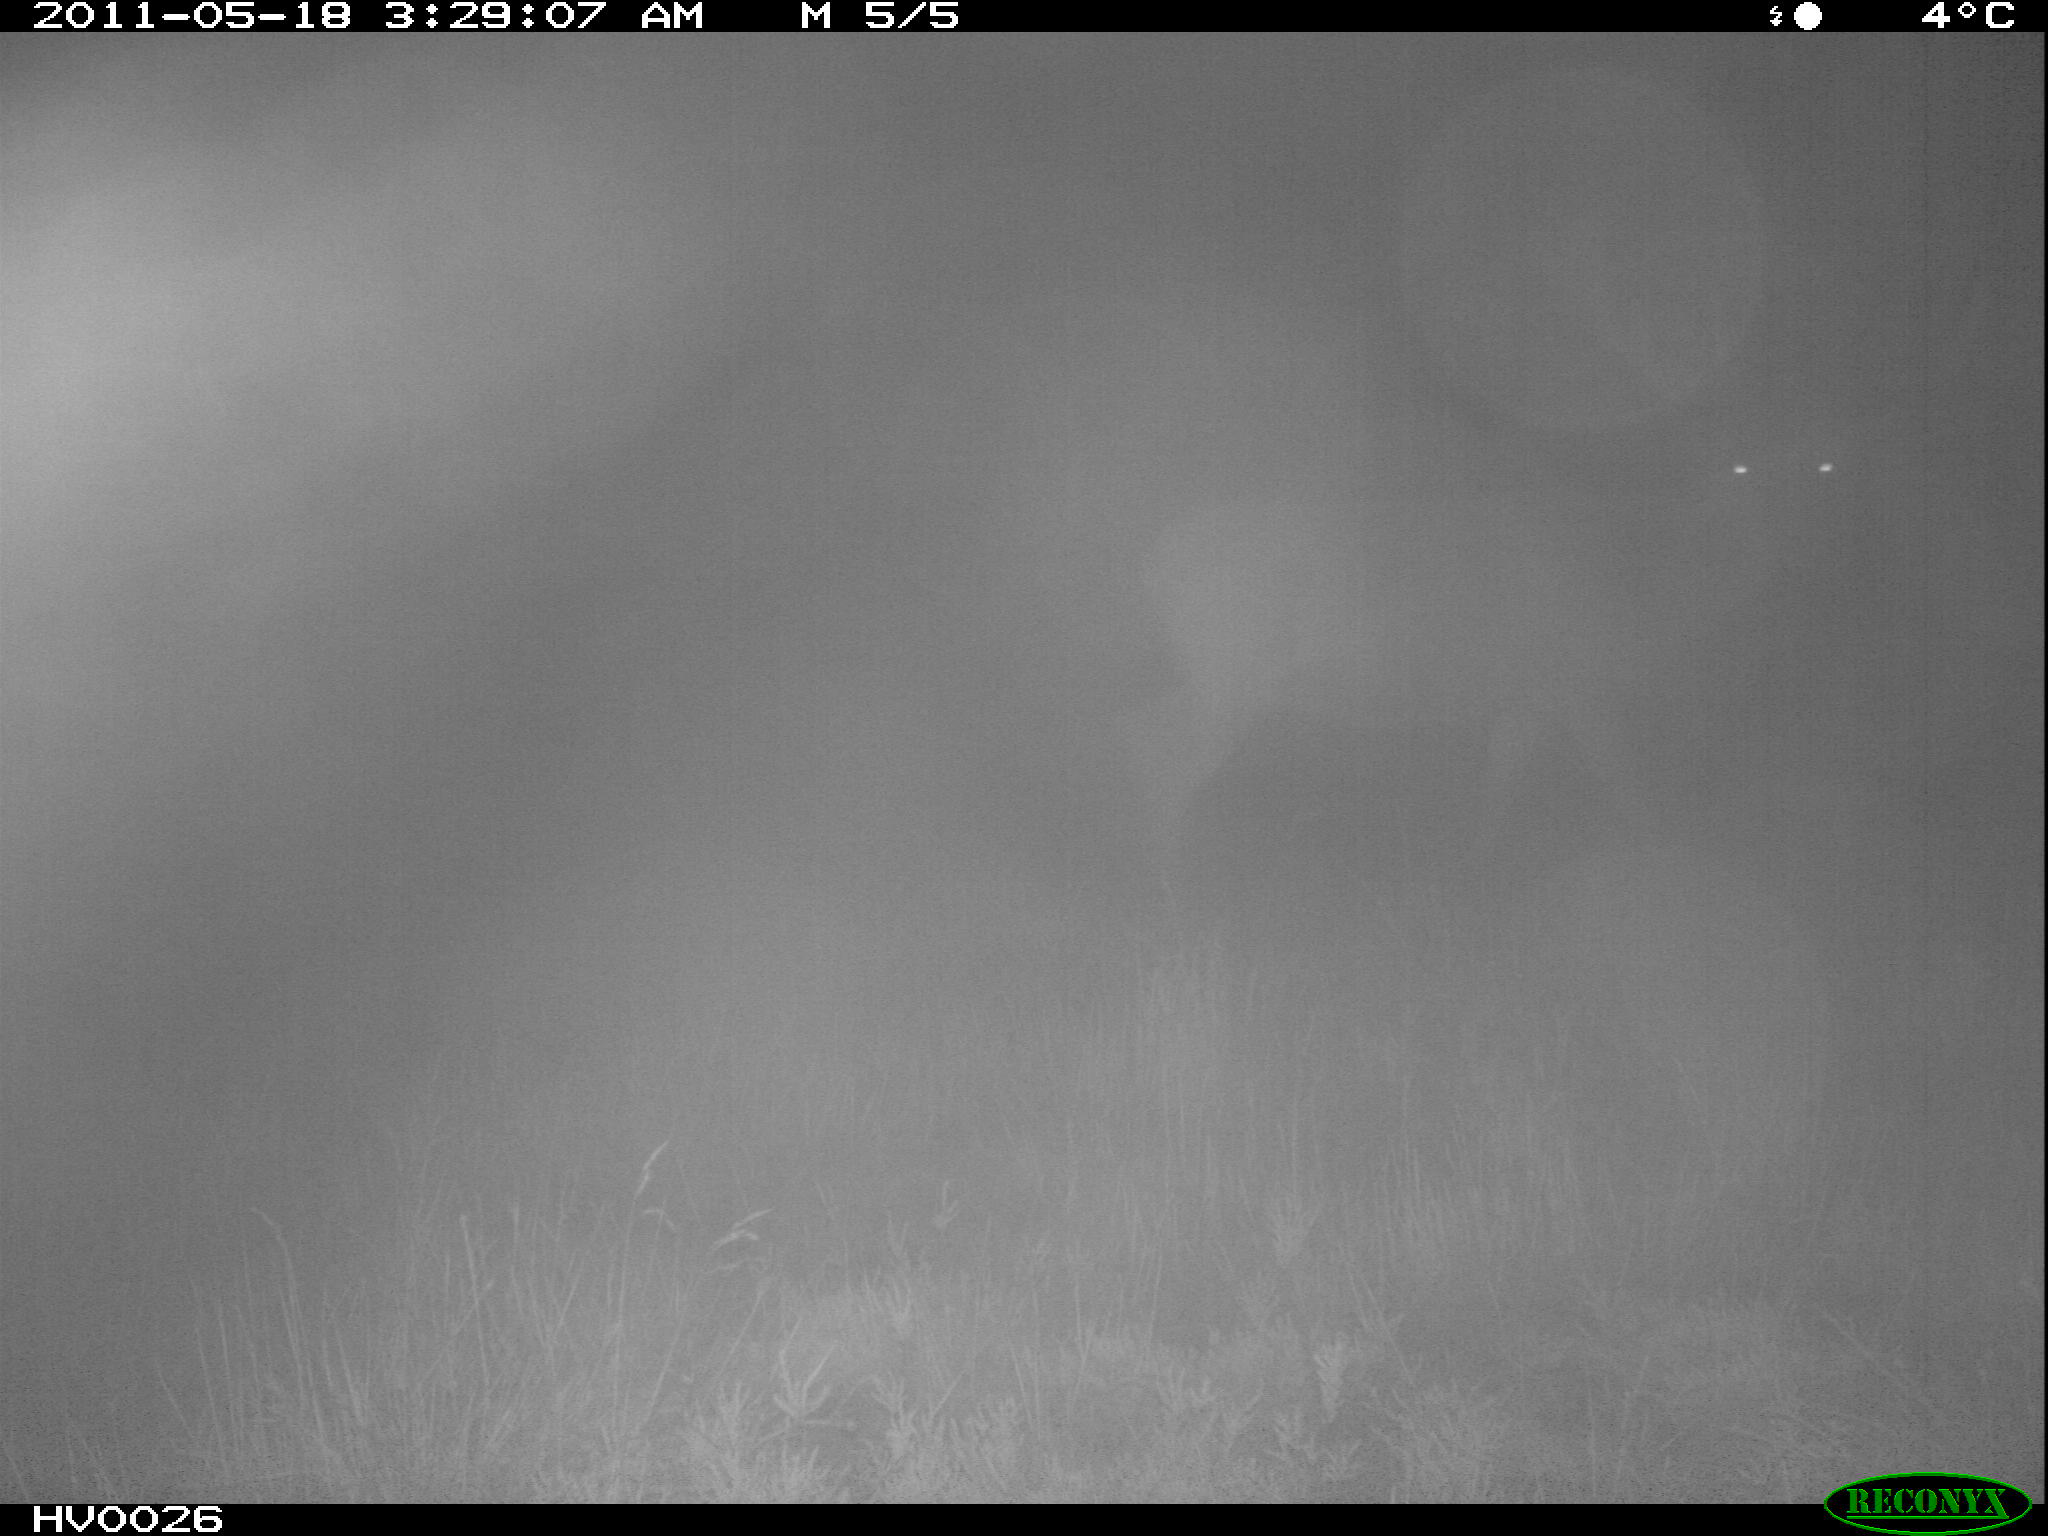Deer: (1113, 166, 2004, 942)
